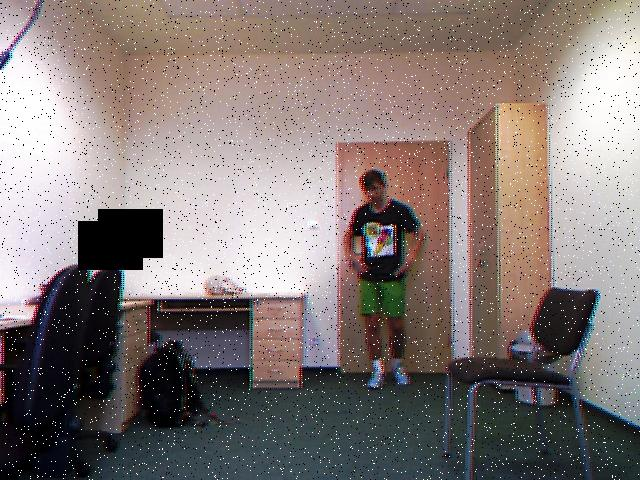standing: (340, 161, 437, 395)
